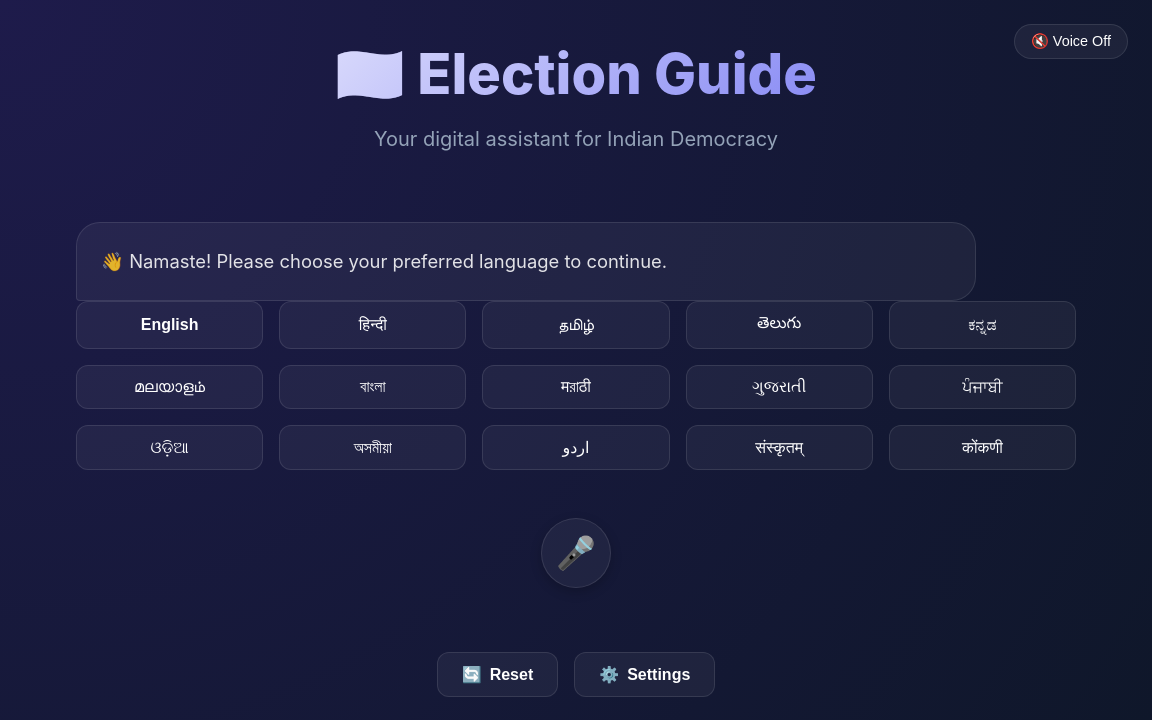
it: handles language and state selection flow
This screenshot has width=1152, height=720.
Note: Select language
Click the button with aria-label "Select English". click: (170, 325)
box: 76,301 -> 263,349
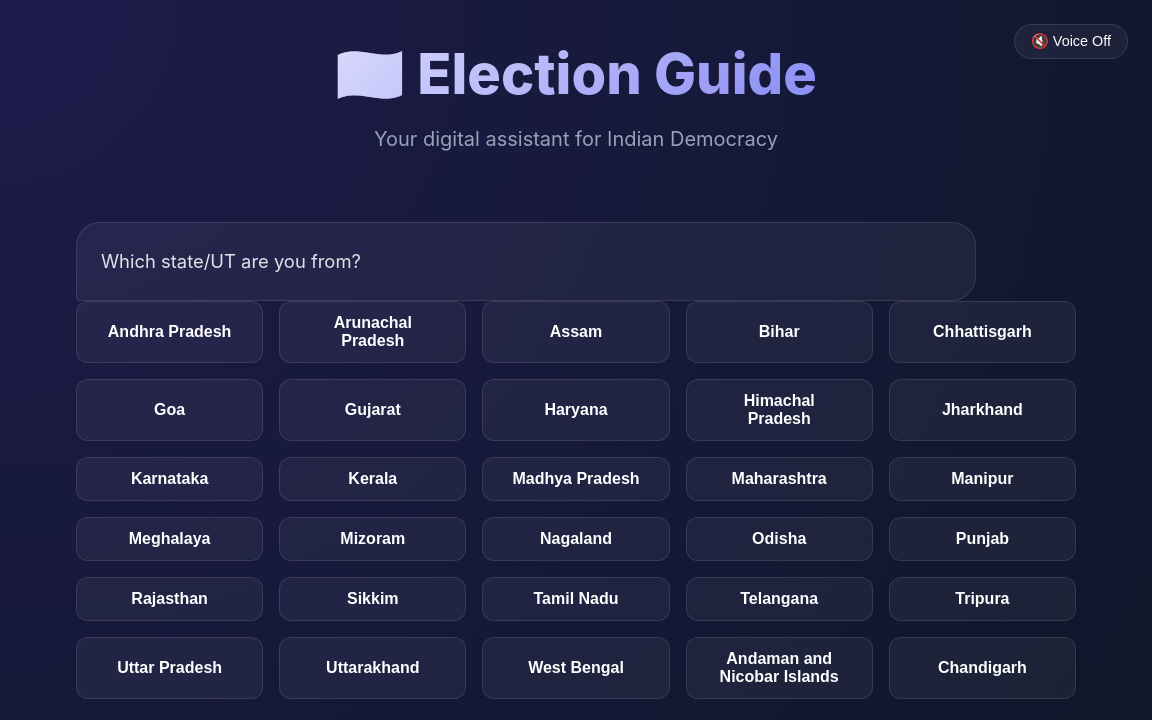
Result: the text "Which state/UT are you from?" is shown at 76,222 -> 976,301
Note: Select state
Click the button with aria-label "Select state Tamil Nadu". click: (576, 599)
box: 482,577 -> 670,621
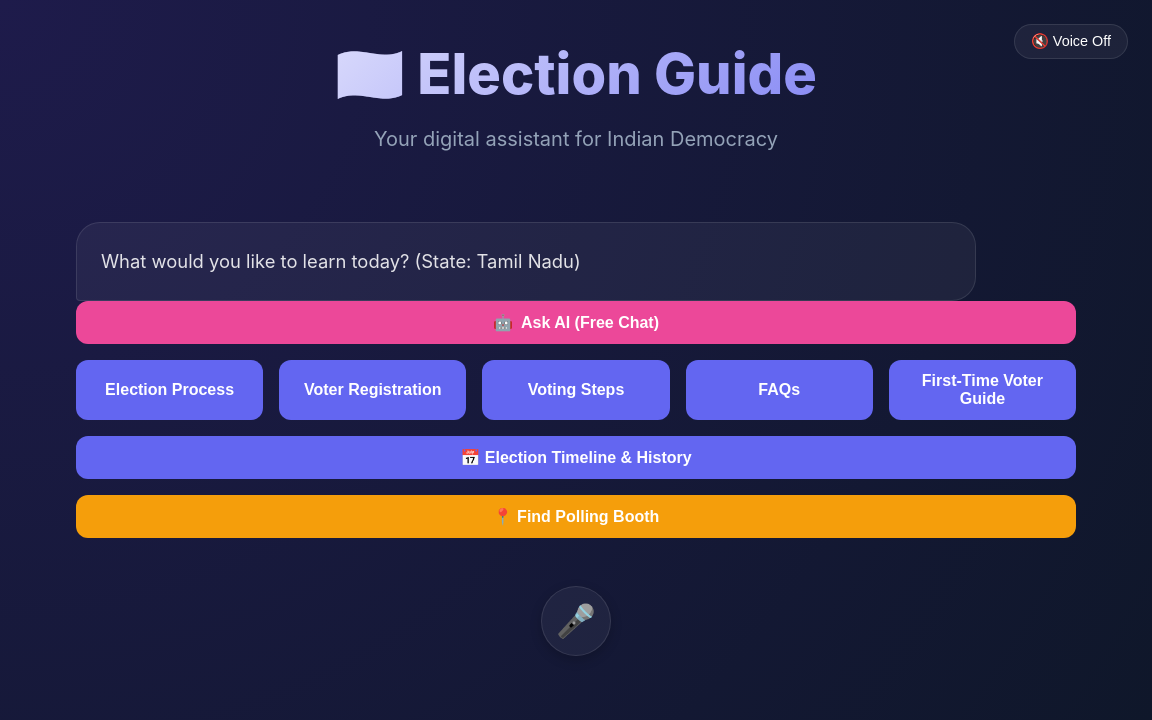
Result: the text "What would you like to learn today? (State: Tamil Nadu)" is shown at 76,222 -> 976,301
Note: Open Chat
Click the button "🤖 Ask AI (Free Chat)". click: (576, 323)
box: 76,301 -> 1076,344
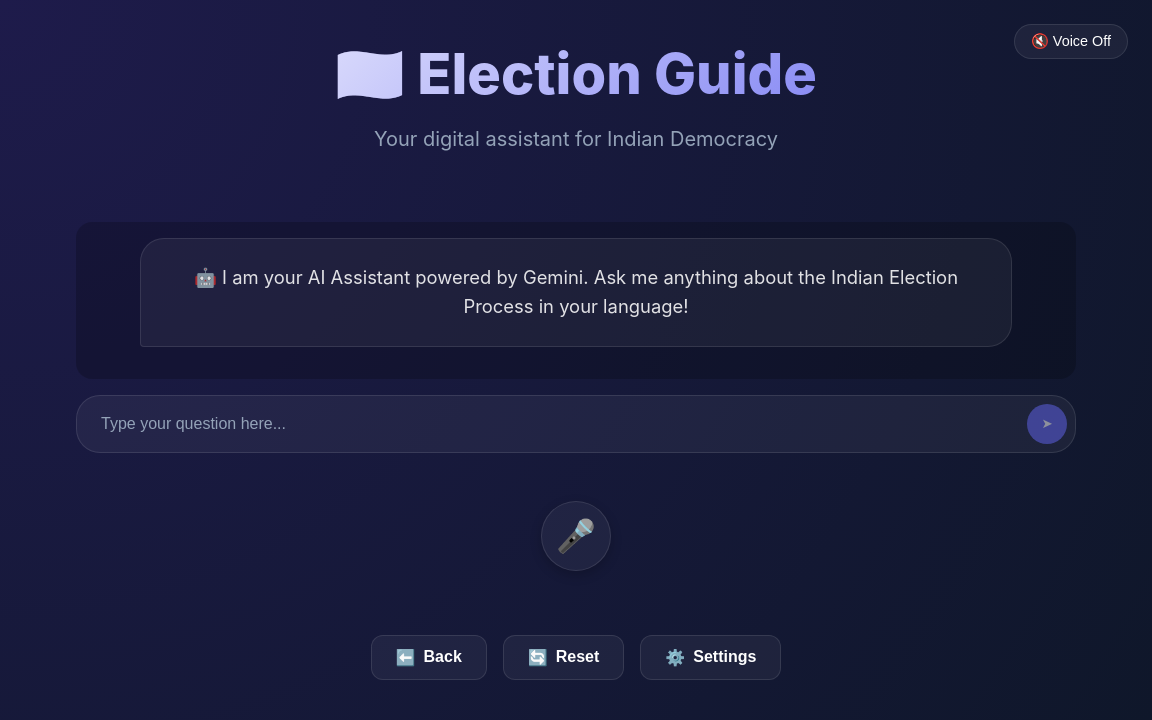
Result: the field with placeholder "Type your question here..." is shown at 85,404 -> 1019,444
